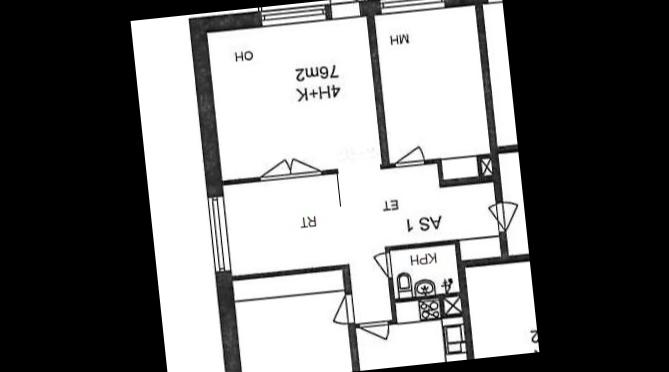door: (493, 191, 521, 232), (255, 153, 293, 183), (328, 290, 358, 328), (392, 142, 428, 172), (354, 316, 392, 344), (287, 154, 325, 180), (324, 0, 362, 23), (485, 200, 508, 234), (371, 250, 394, 280)
window: (202, 191, 236, 275), (256, 0, 330, 30), (373, 0, 450, 16)
